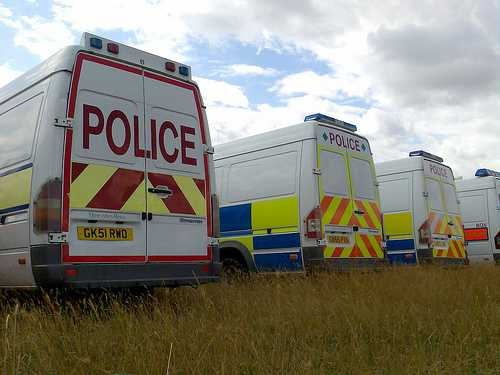Police Van: (5, 57, 229, 304), (202, 106, 401, 285), (376, 143, 485, 270), (458, 161, 500, 270)
